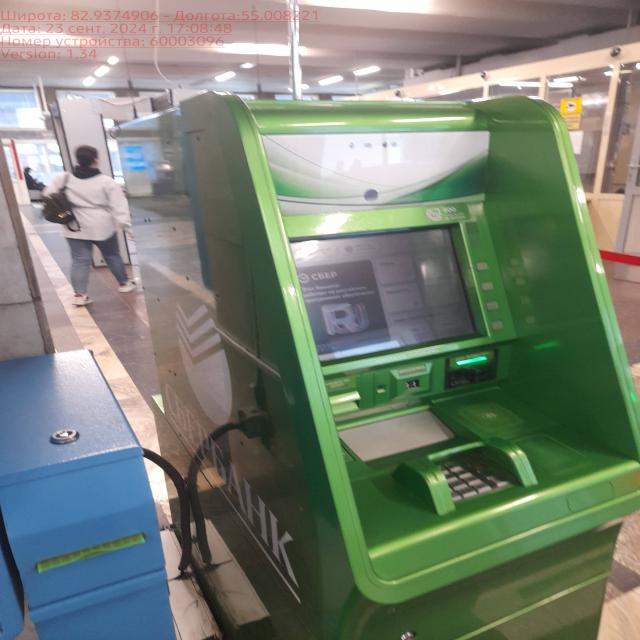bank: (100, 89, 639, 640)
